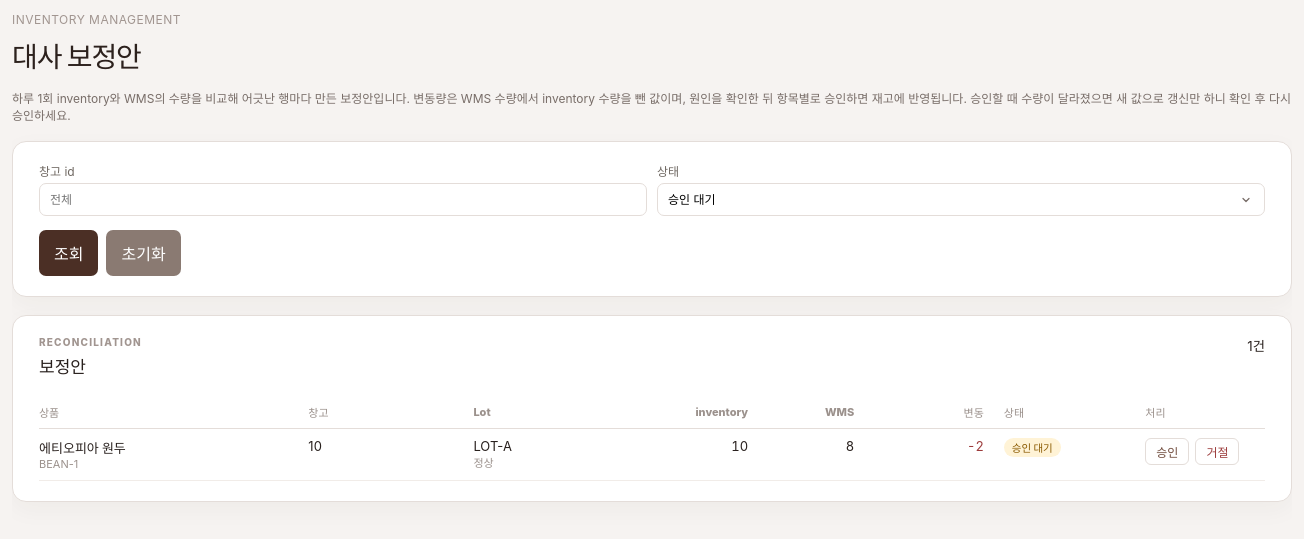
Test: ReconciliationsPage › 필터 › 창고 id가 양의 정수가 아니면 조회하지 않고 안내한다
Type "0" into the field labelled "창고 id".
click(343, 200); type("0")  # box 39,183 -> 647,216
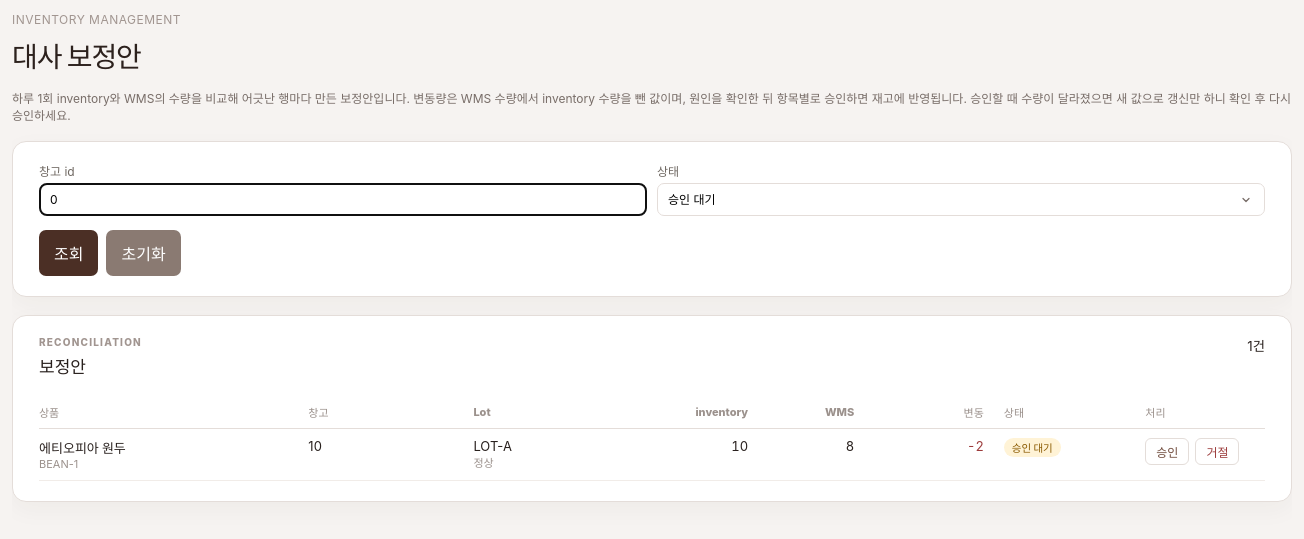
Click the button "조회".
click(69, 253)  # box 39,230 -> 98,276
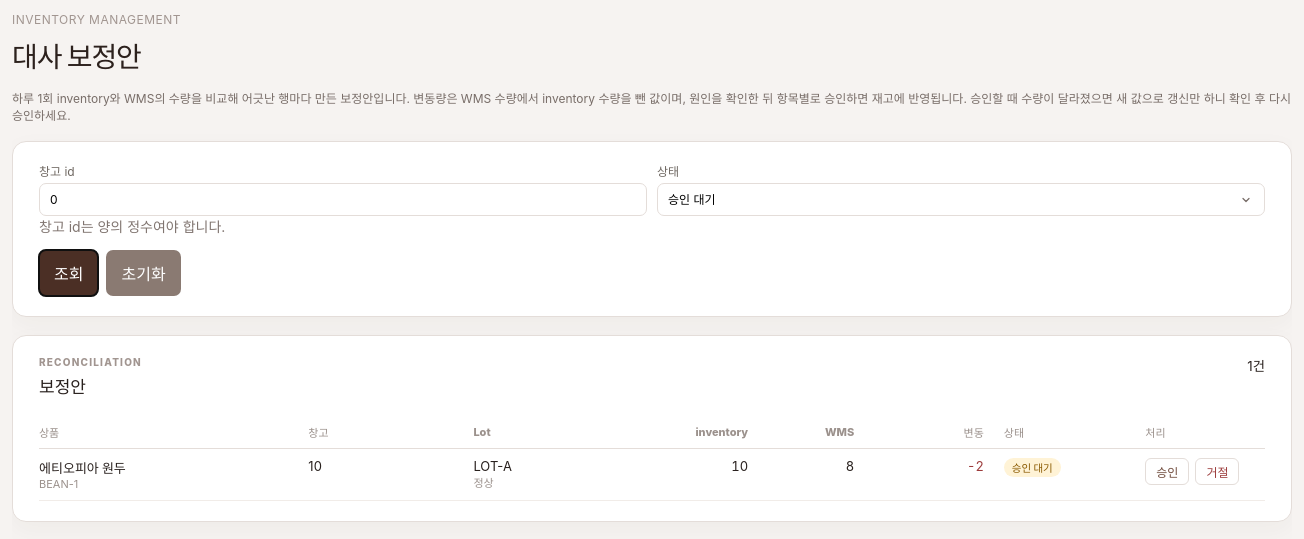
Check: the message reads "창고 id는 양의 정수여야 합니다.", box 39,218 -> 225,235
